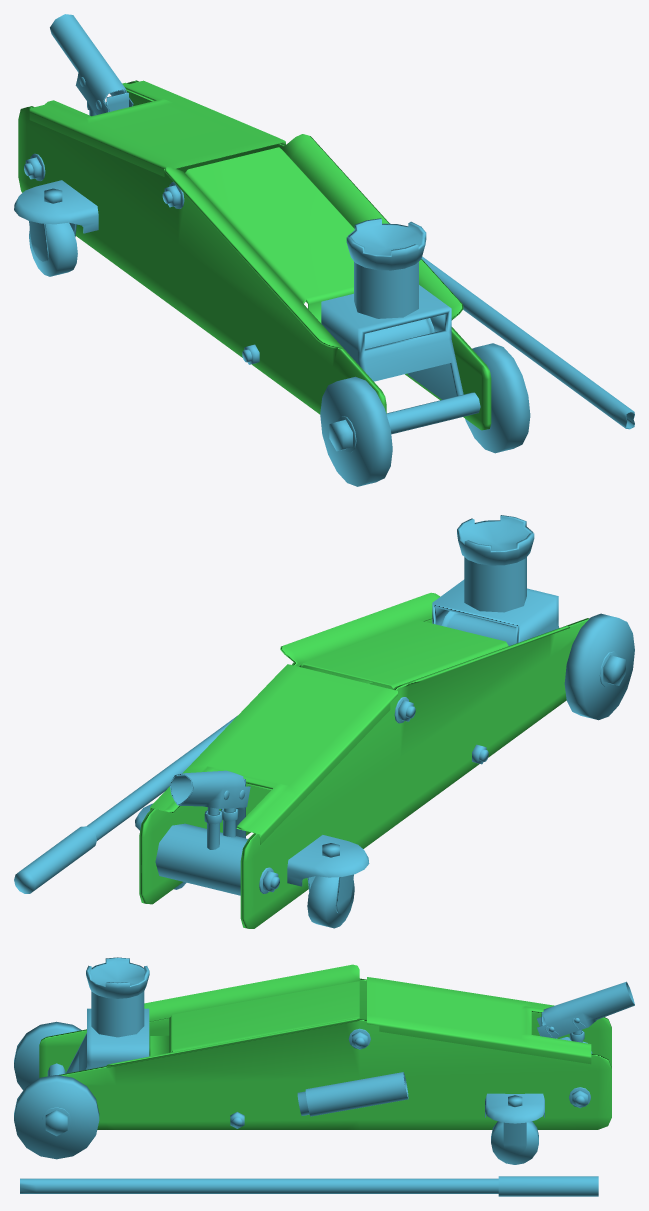
Rendered from Car-jack-low.fbx.
The picture shows the model from 3 angles, top to bottom: view 1: azimuth 30°, elevation 25°; view 2: azimuth 150°, elevation 25°; view 3: azimuth 270°, elevation 25°; orthographic projection. The views are drawn at different scales.
Parts seen in each view (by area): view 1: Body_low, parts_low, Simple; view 2: Body_low, parts_low, Simple; view 3: Body_low, parts_low, Simple.
Part boxes in pixels (x1=…): Body_low: x1=18, y1=80, x2=491, y2=430; parts_low: x1=14, y1=14, x2=634, y2=486; Simple: x1=104, y1=102, x2=480, y2=434; Body_low: x1=139, y1=592, x2=589, y2=928; parts_low: x1=14, y1=515, x2=634, y2=928; Simple: x1=155, y1=557, x2=526, y2=895; Body_low: x1=39, y1=964, x2=611, y2=1129; parts_low: x1=14, y1=957, x2=634, y2=1196; Simple: x1=47, y1=991, x2=592, y2=1076.
Bounding box in the file's own units: 1.82 × 1.14 × 4.01.
